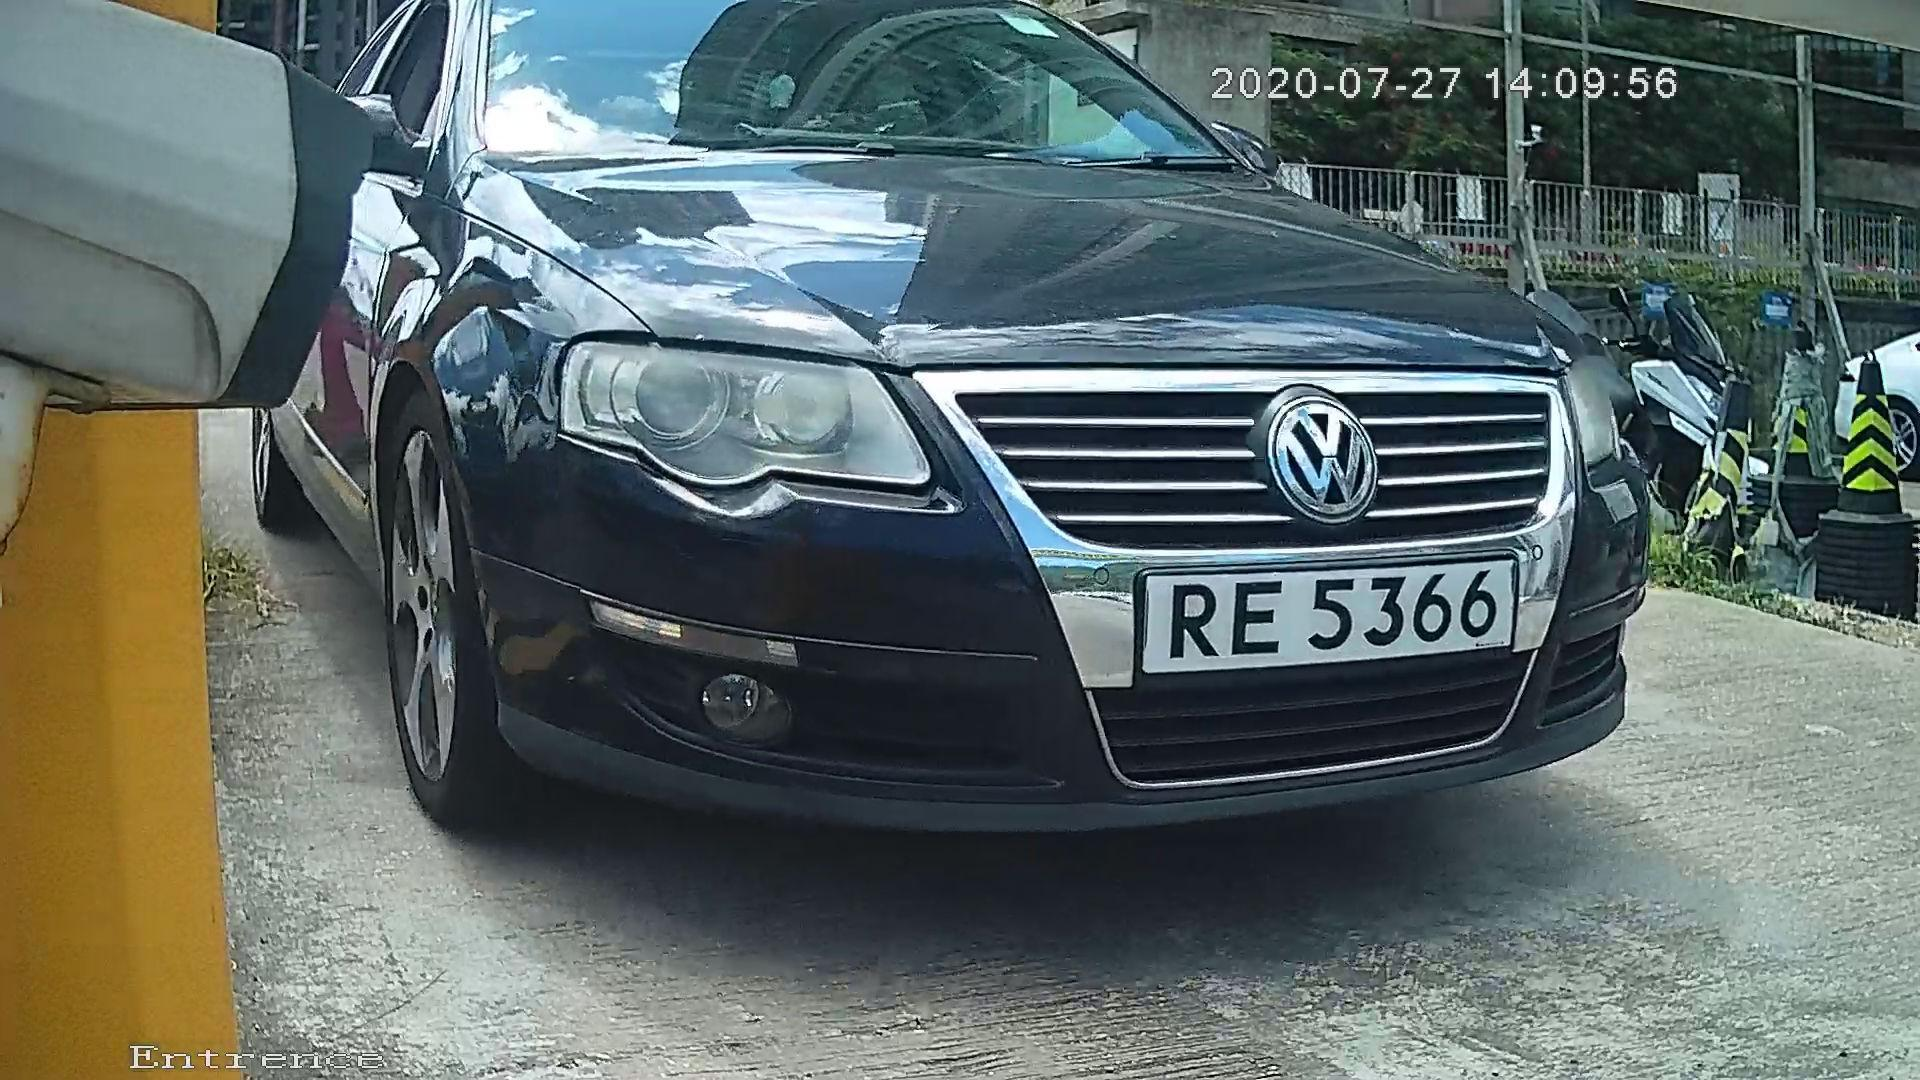privatecar: (171, 40, 1809, 907)
